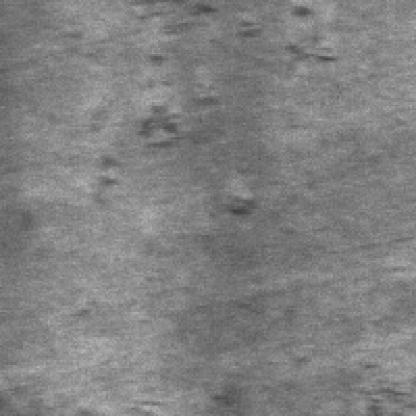rolled-in_scale: (64, 0, 335, 71), (96, 96, 256, 212), (343, 314, 410, 410)
